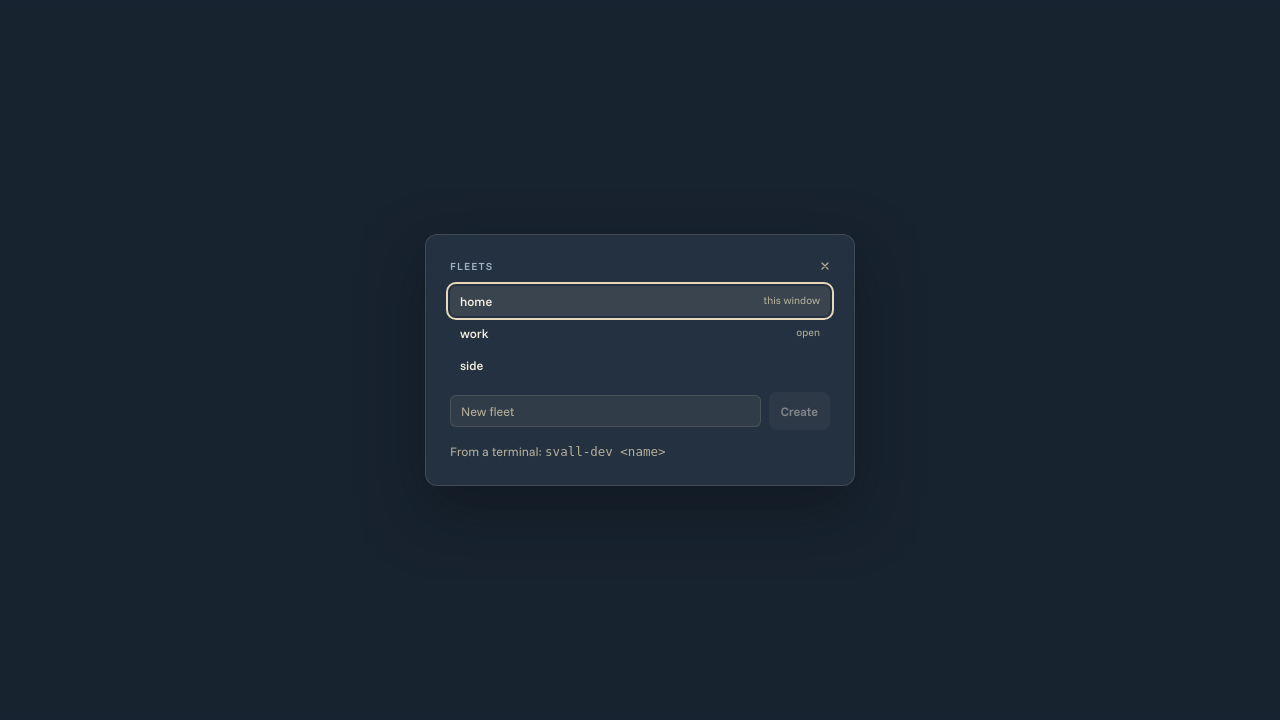
Scenario: a fleet that will not start says why and where its log is, nothing opens, and the rows are listed again
Step 1. Click the button with test id "fleet-row-side" → x=472, y=365, box top-left (450, 350), bottom-right (830, 380)
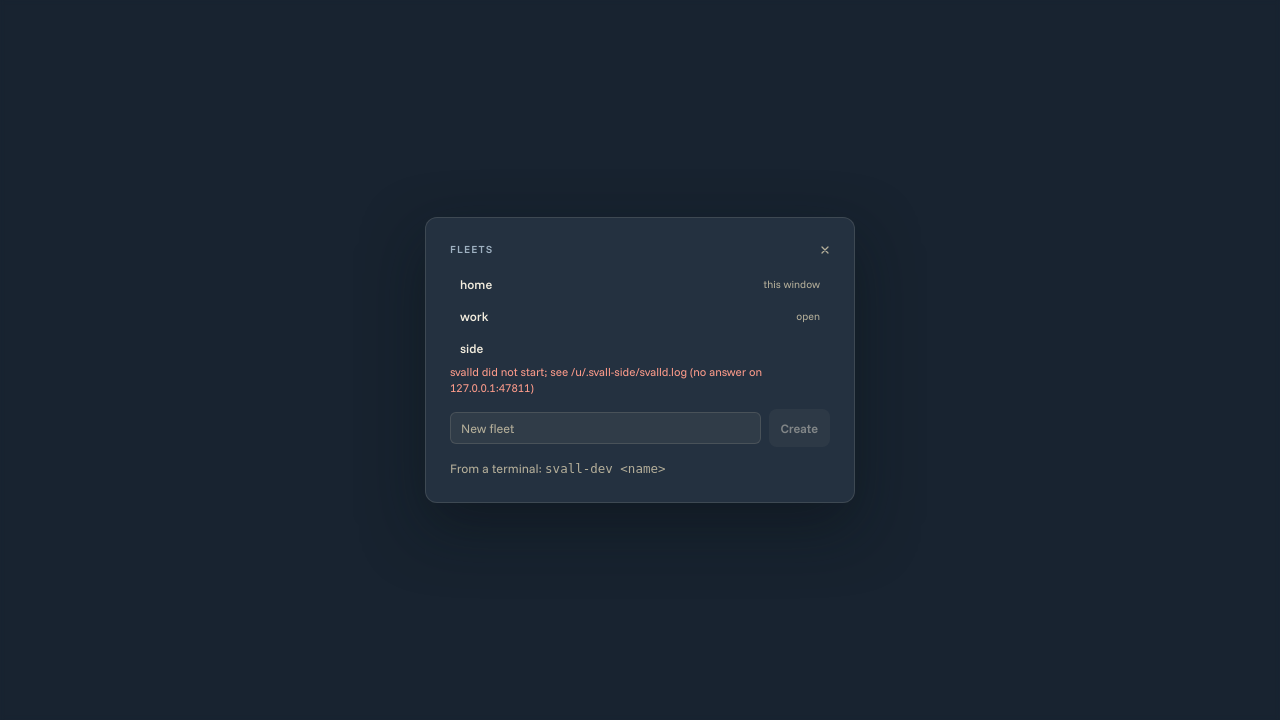
Check: the text with test id "fleet-error-side" shows "svalld did not start; see /u/.svall-side/svalld.log (no answer on 127.0.0.1:47811)", box top-left (450, 364), bottom-right (762, 395)
